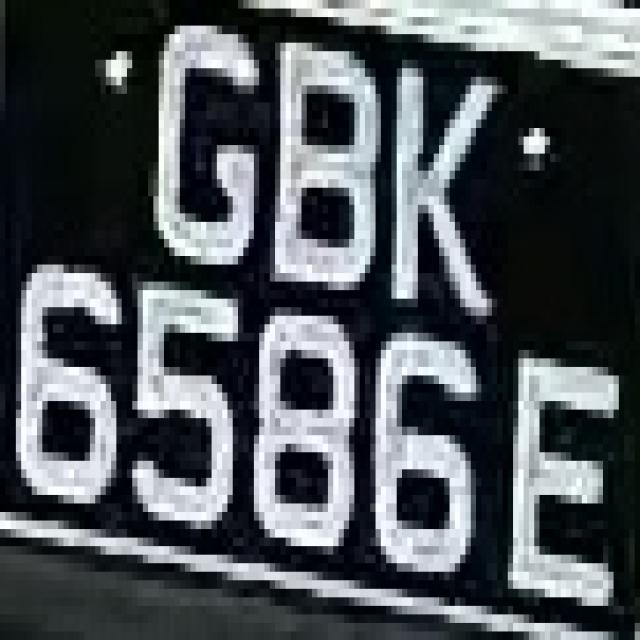5: (111, 239, 238, 555)
6: (354, 316, 492, 597), (16, 222, 127, 529)
8: (243, 282, 354, 572)
B: (254, 43, 381, 307)
E: (502, 316, 608, 614)
G: (143, 34, 259, 290)
K: (370, 34, 487, 316)
